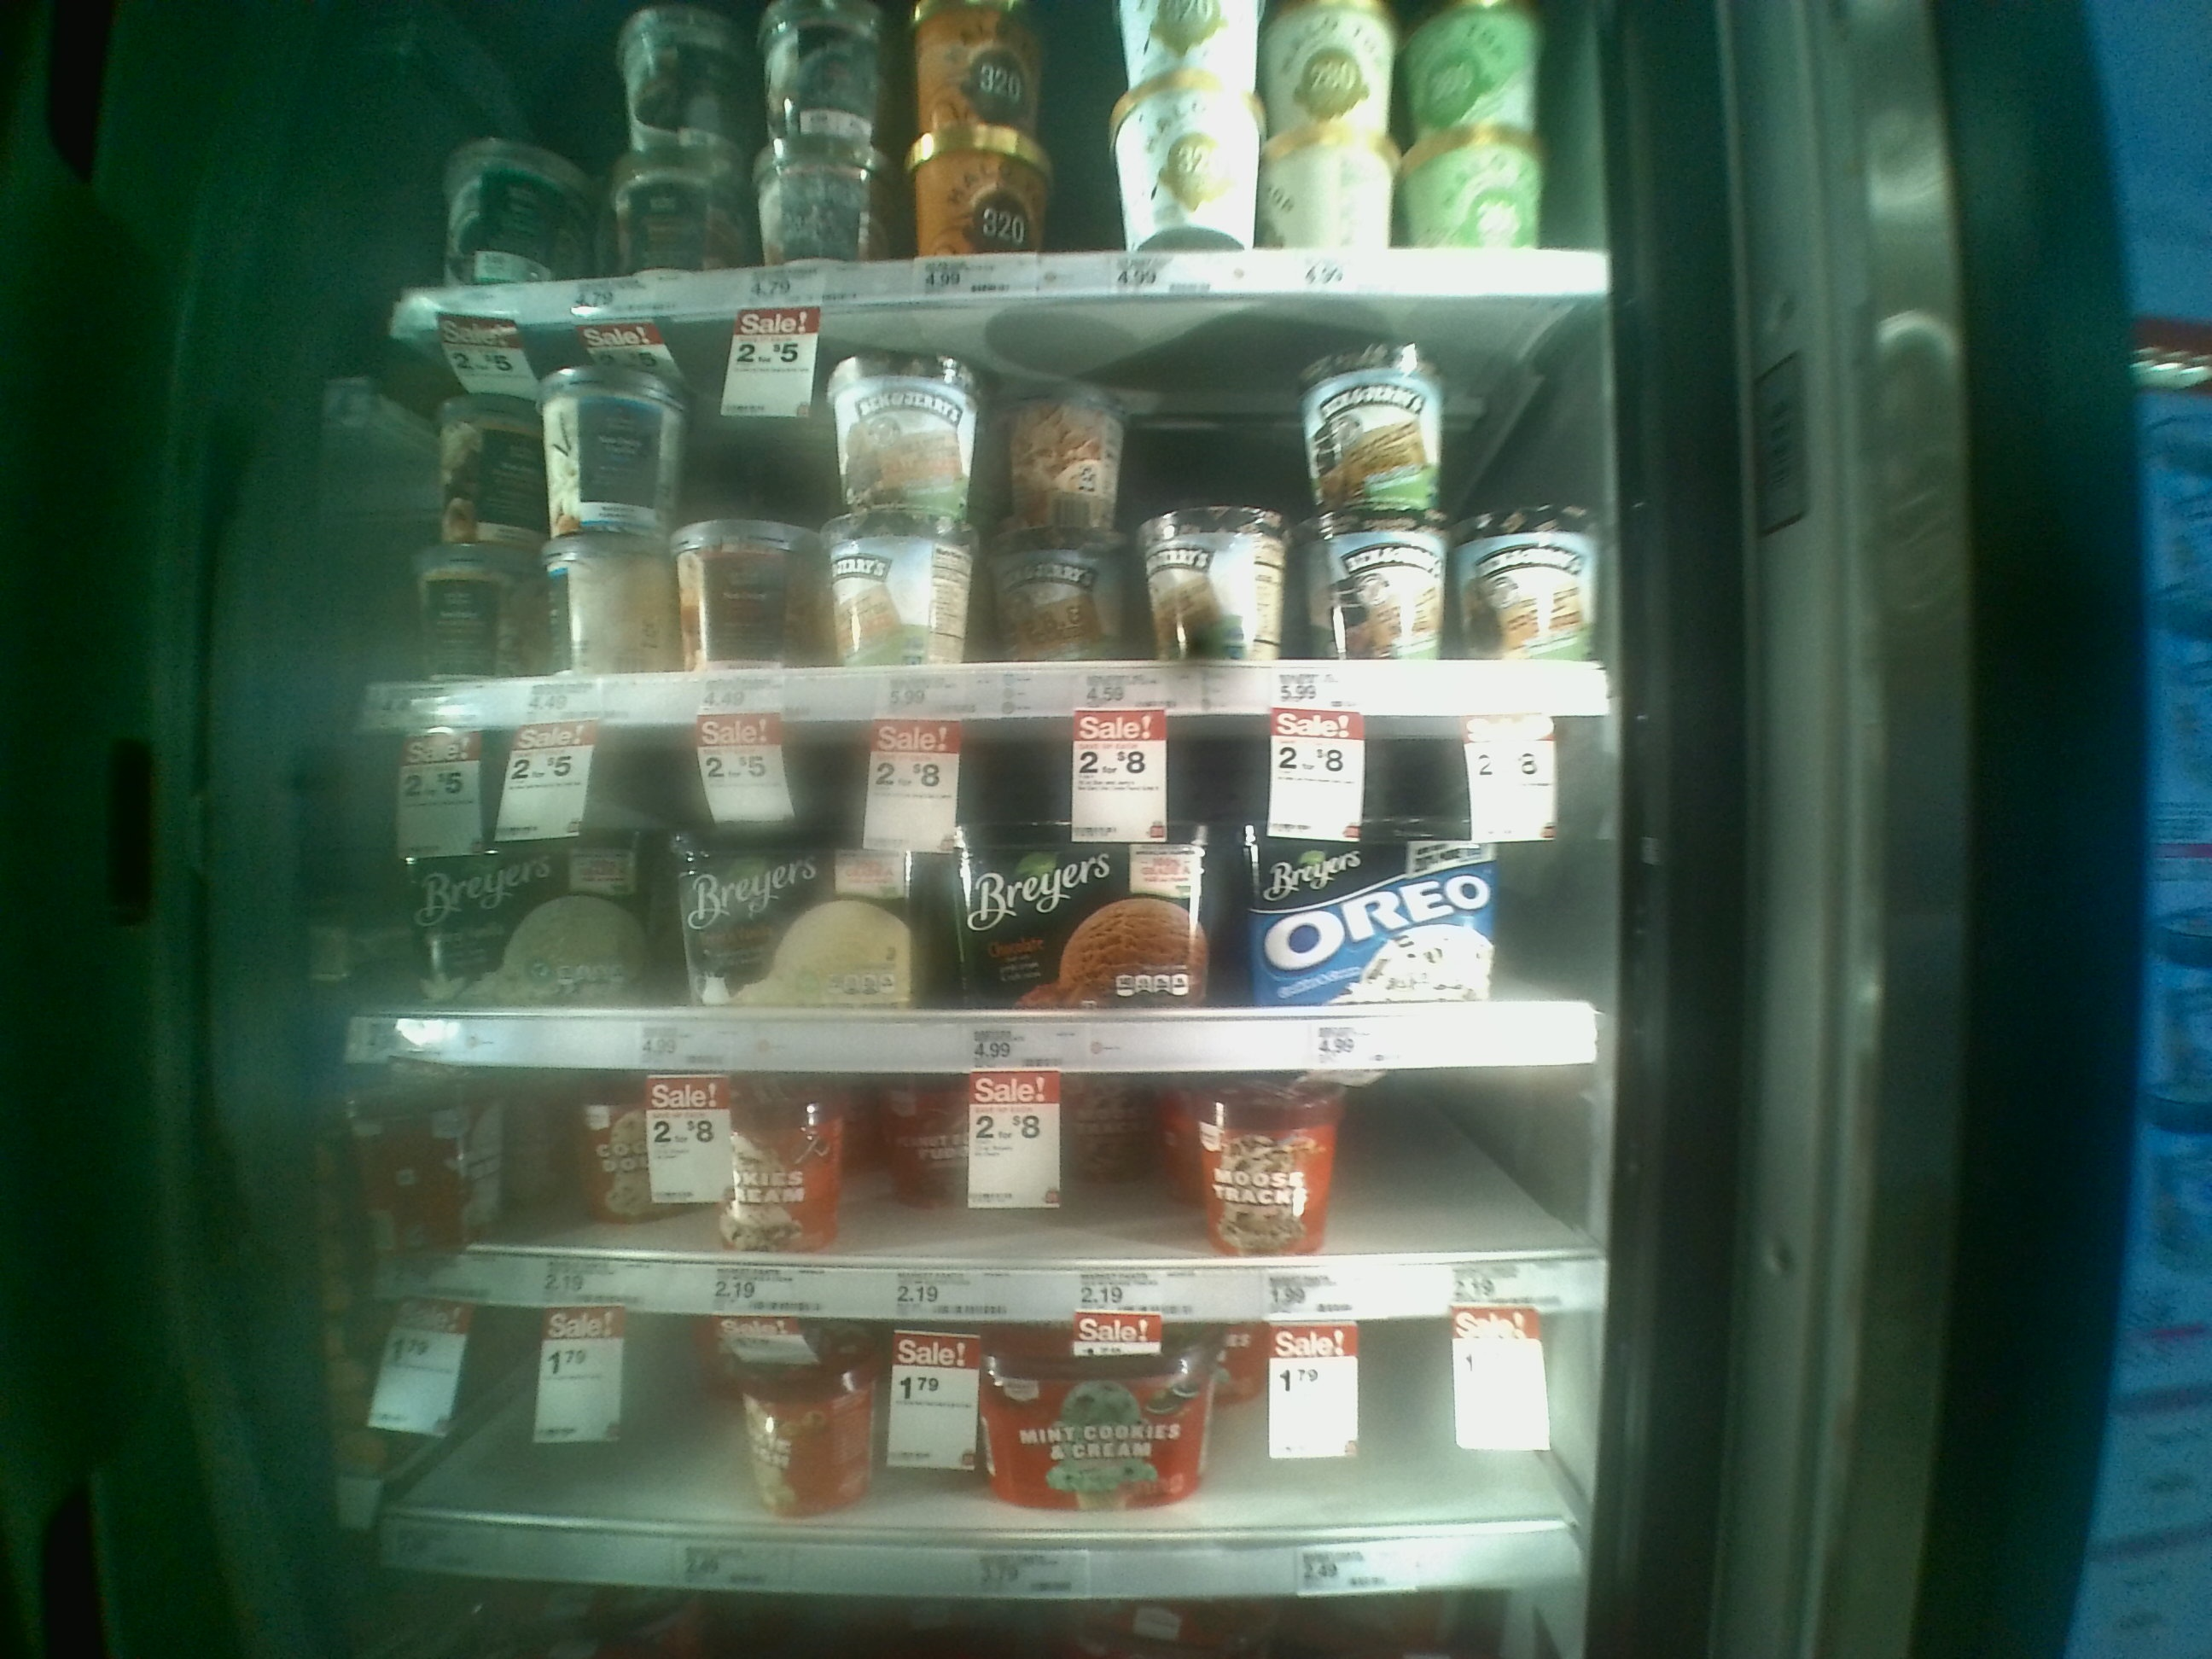ice-cream-shelf: (371, 296, 1616, 721), (366, 721, 1615, 1073), (366, 1305, 1590, 1595), (364, 1063, 1622, 1314)
